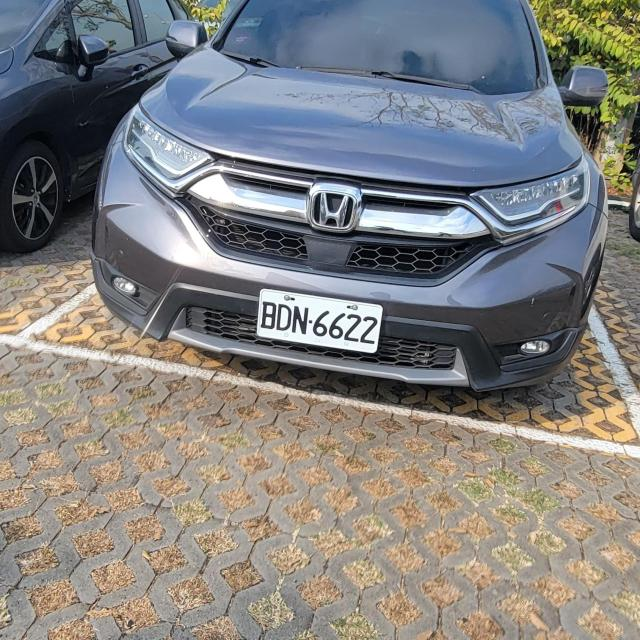W: (253, 284, 386, 358)
